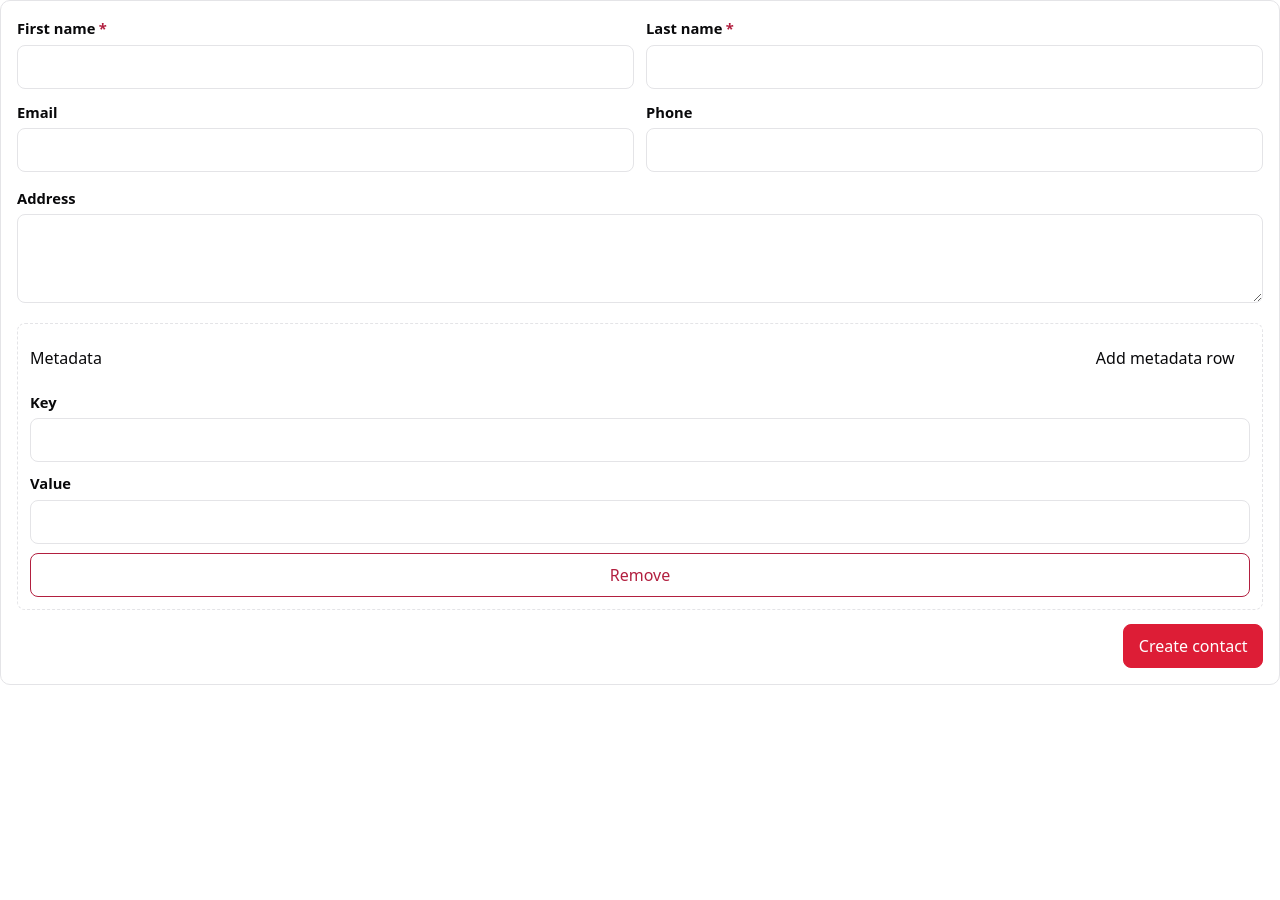
ContactForm › blocks duplicate metadata keys case-insensitively
Type "Ada" into the field labelled "First name *" at (326, 67), box top-left (17, 45), bottom-right (634, 89)
Type "Lovelace" into the field labelled "Last name *" at (954, 67), box top-left (646, 45), bottom-right (1263, 89)
Type "team" into the field labelled "Key" at (640, 440), box top-left (30, 418), bottom-right (1250, 462)
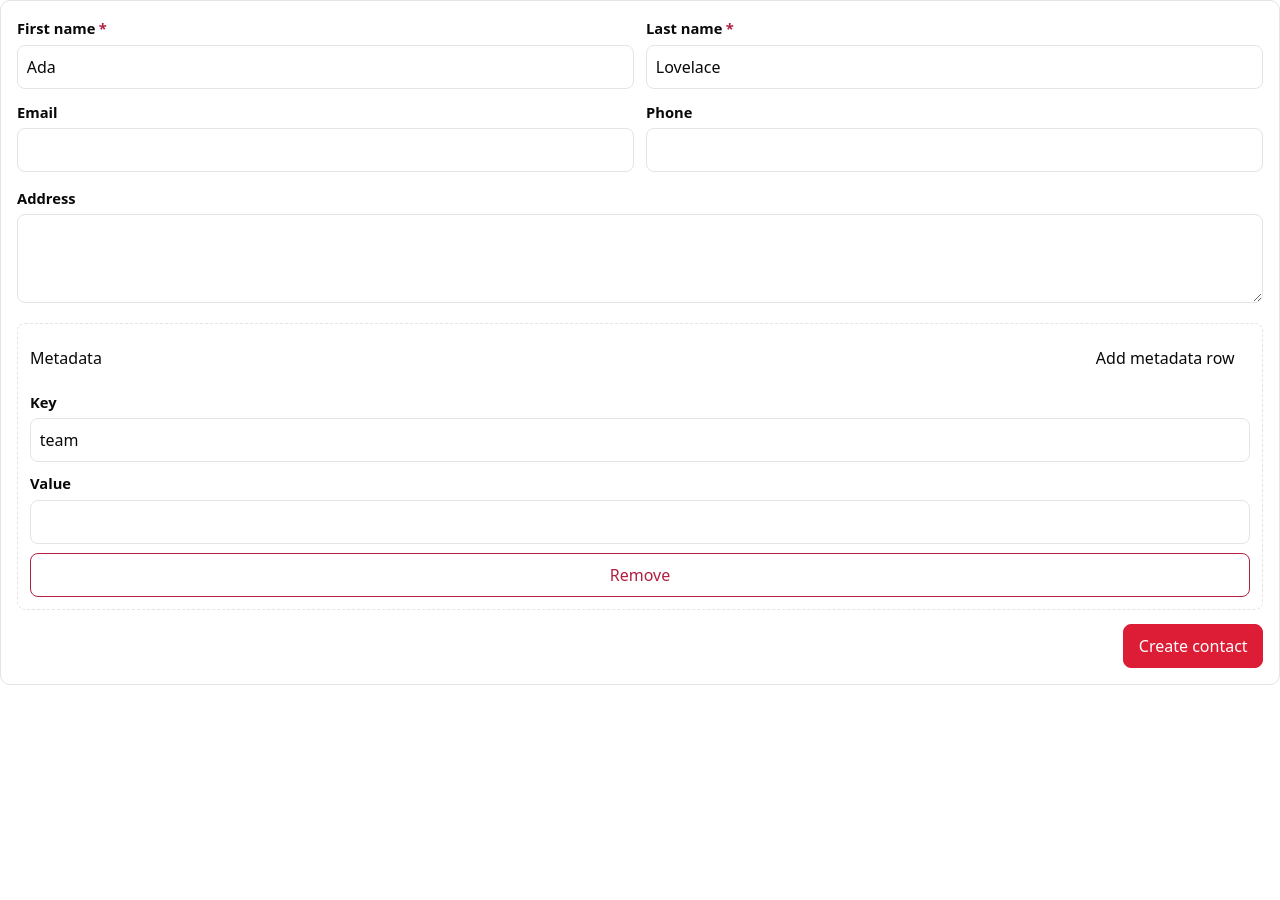
Type "platform" into the field labelled "Value" at (640, 522), box top-left (30, 500), bottom-right (1250, 544)
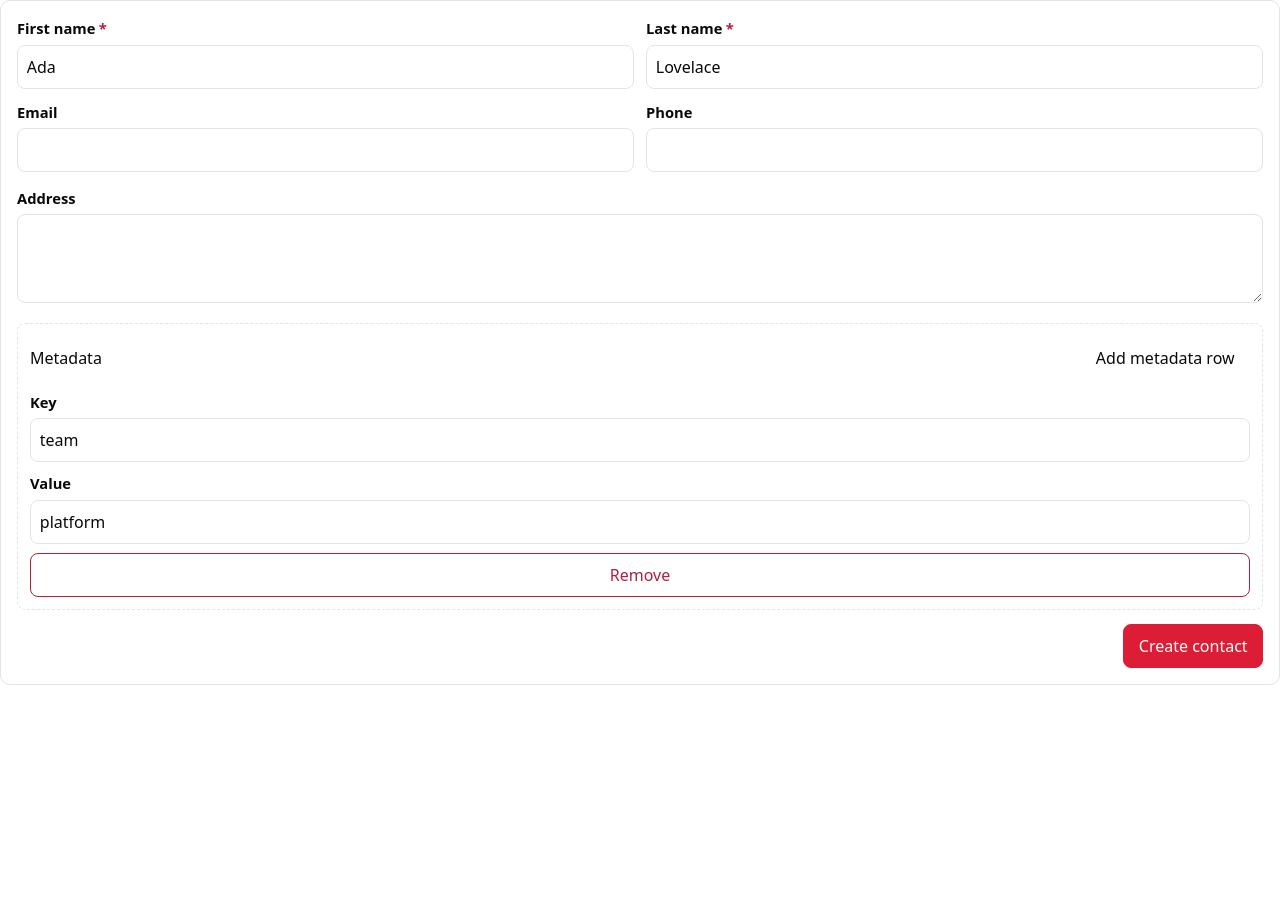
Click the button "Add metadata row" at (1165, 358), box top-left (1080, 336), bottom-right (1250, 380)
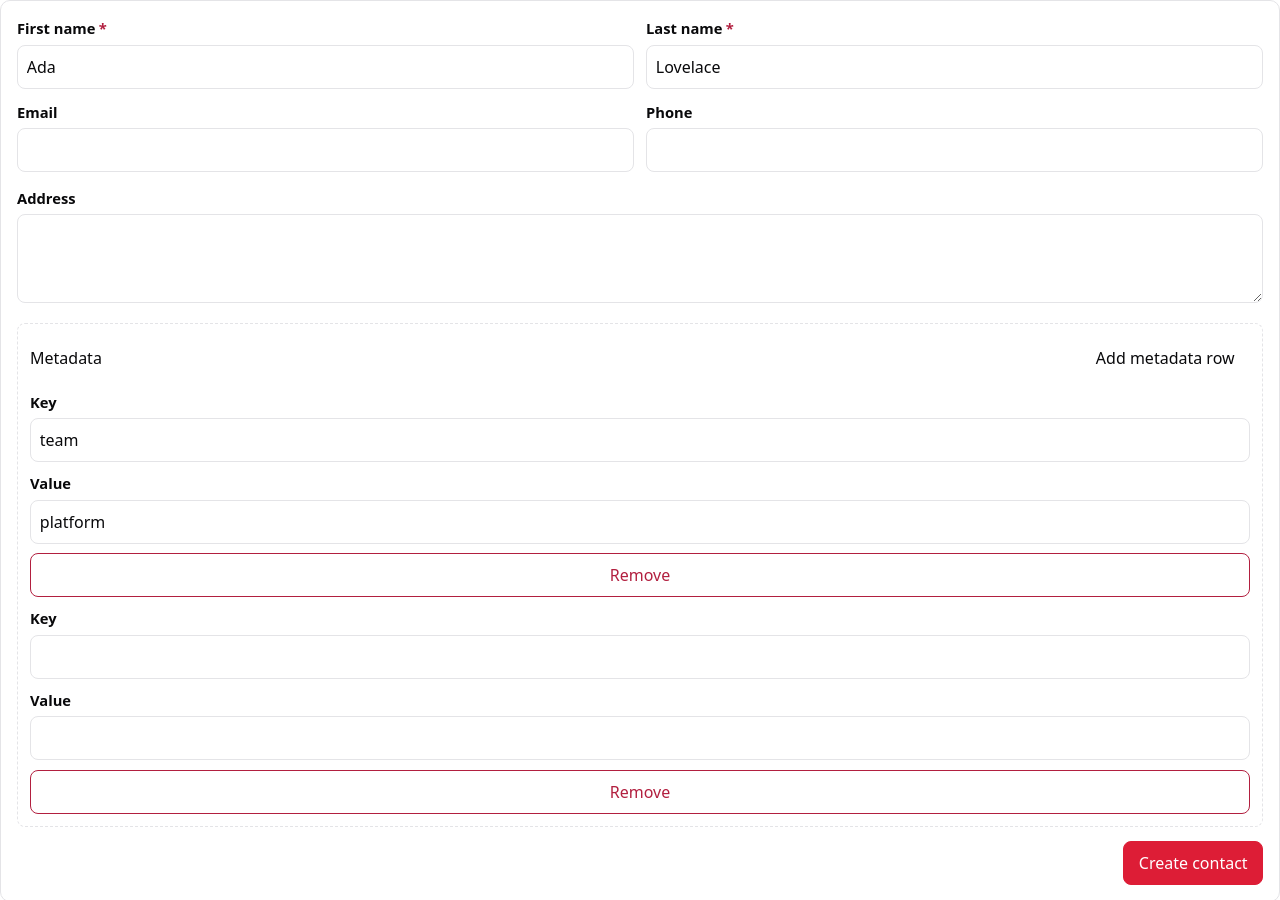
Check: the number of fields labelled "Value" is 2, box top-left (30, 500), bottom-right (1250, 544); top-left (30, 716), bottom-right (1250, 760)
Type "TEAM" into the 2nd field labelled "Key" at (640, 657), box top-left (30, 635), bottom-right (1250, 679)
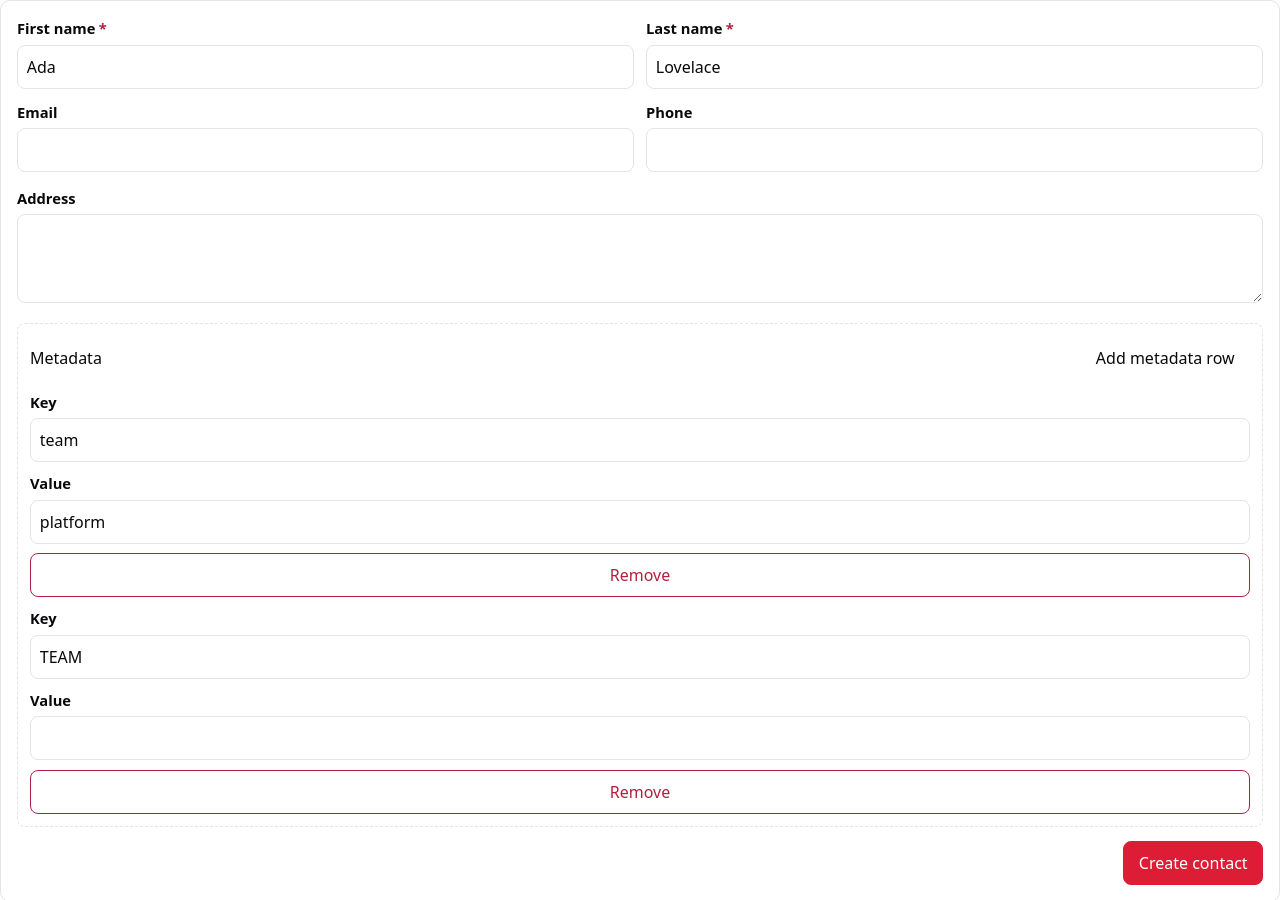
Type "core" into the 2nd field labelled "Value" at (640, 738), box top-left (30, 716), bottom-right (1250, 760)
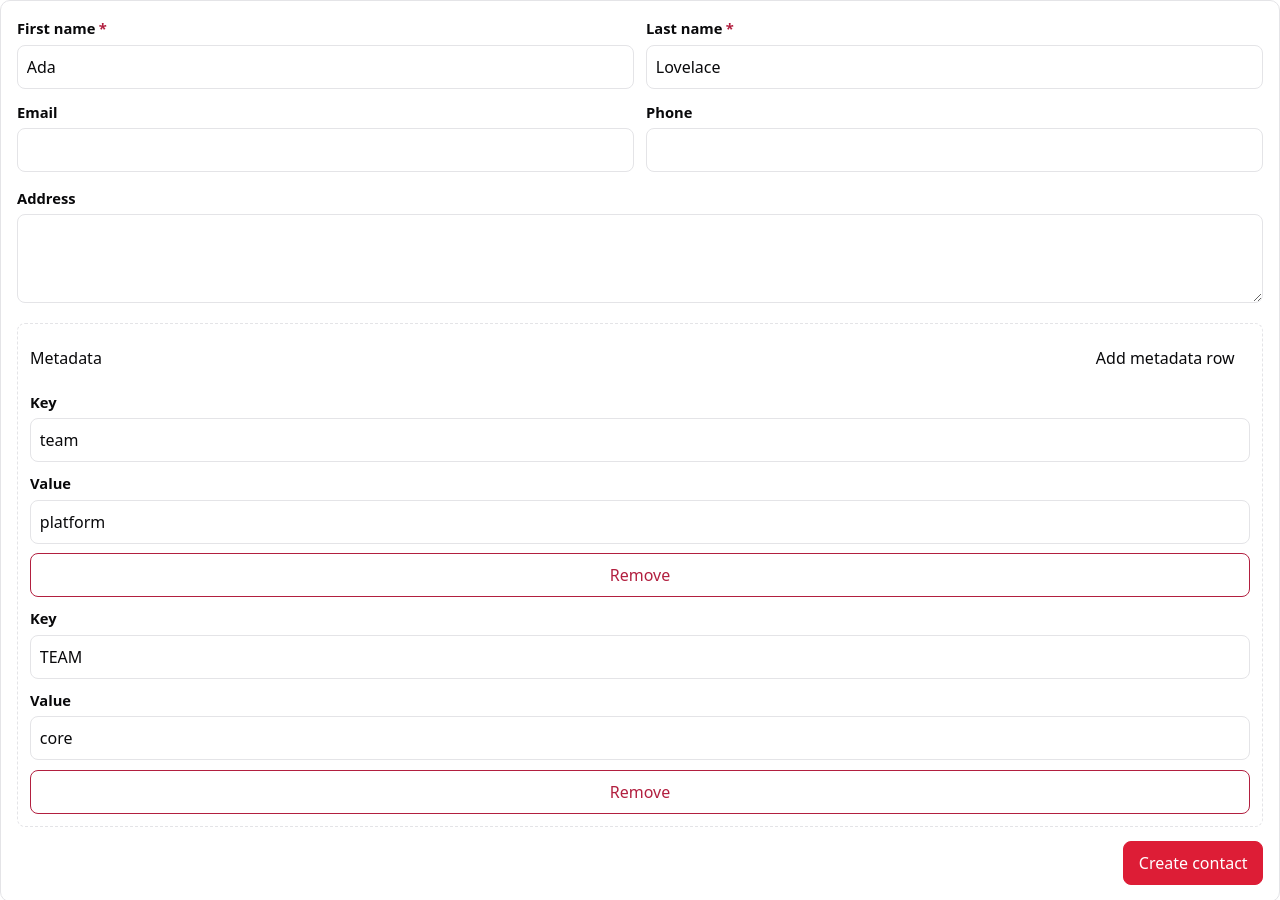
Click the button "Create contact" at (1193, 863), box top-left (1123, 841), bottom-right (1263, 885)
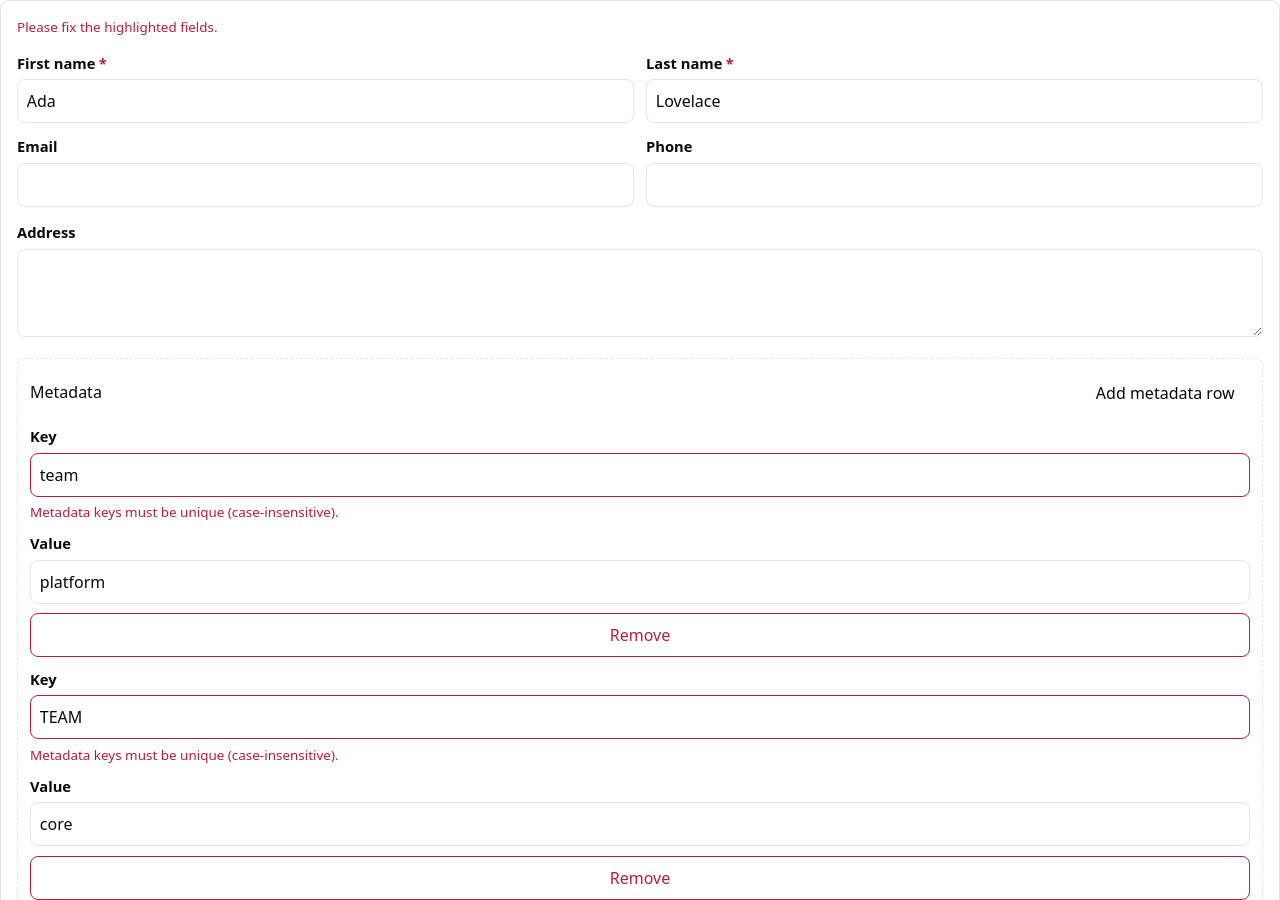
Check: the text "Metadata keys must be unique (case-insensitive)." is shown 2 times, box top-left (30, 503), bottom-right (338, 521); top-left (30, 746), bottom-right (338, 764)
